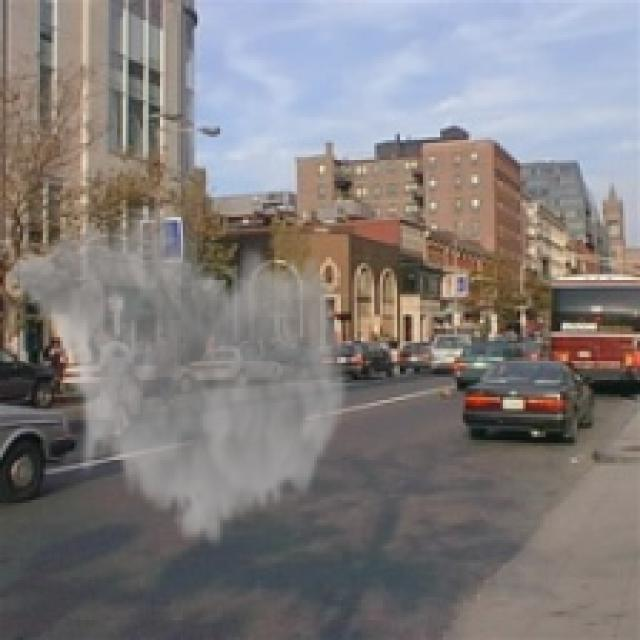Smoke: (2, 197, 352, 554)
